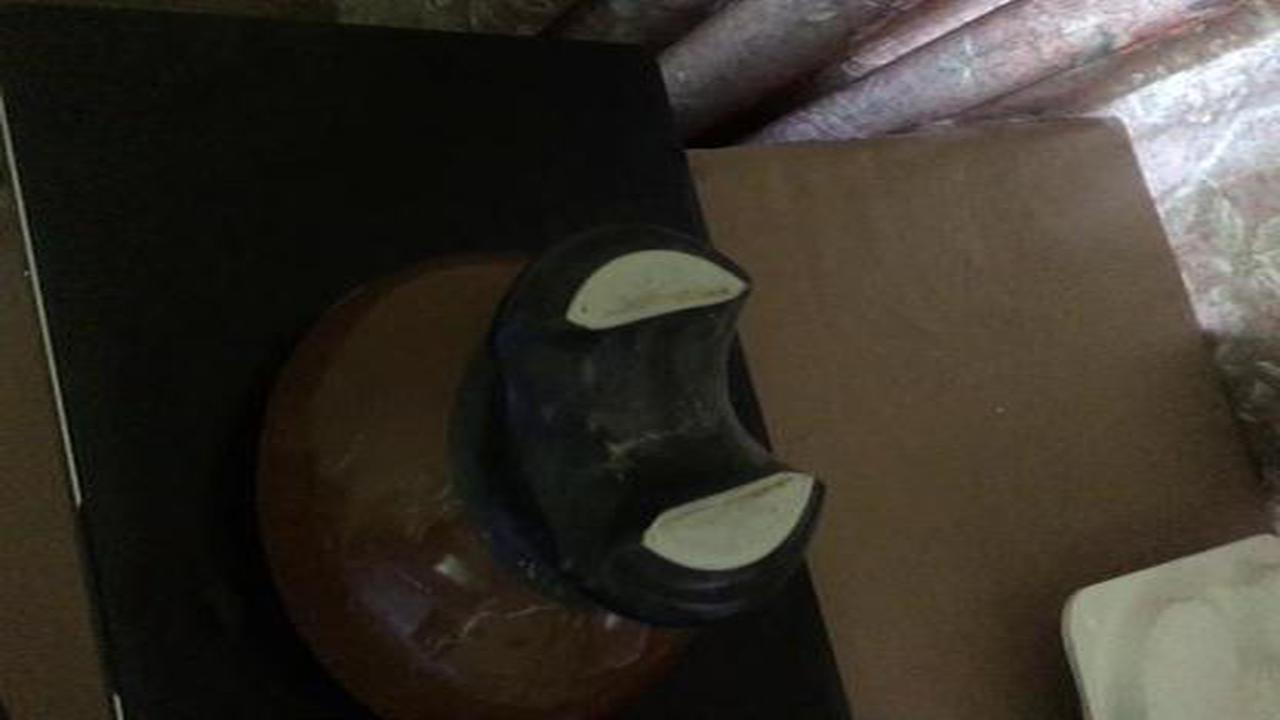insulator_pin: (225, 210, 847, 714)
